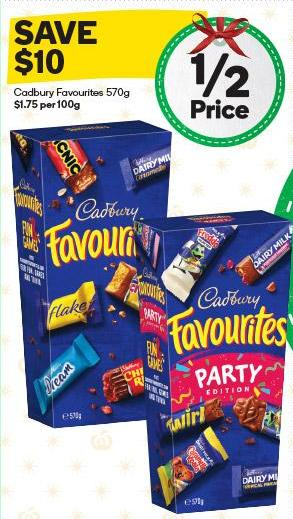description_block: (8, 85, 142, 101)
price_main: (163, 30, 277, 134)
product_image_block: (9, 125, 293, 516)
promo_text_block: (7, 16, 146, 80)
unit_price_block: (11, 98, 85, 115)
